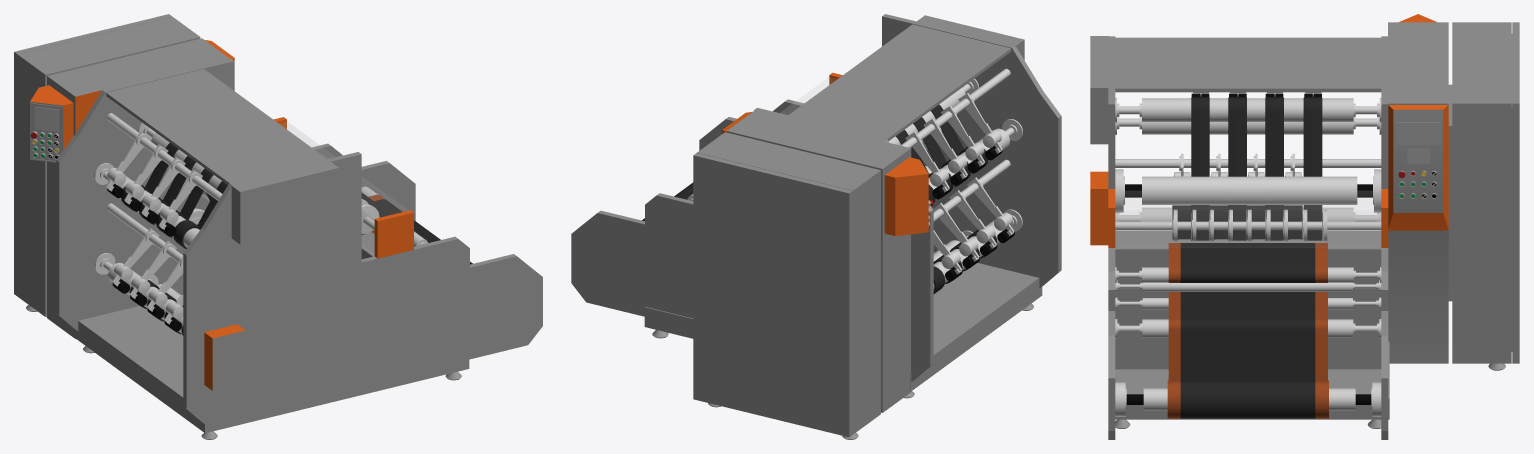
File: 슬리팅공정머신찐찐최종.fbx
3 views of the same model, side by side, from view 1: azimuth 30°, elevation 25°; view 2: azimuth 150°, elevation 25°; view 3: azimuth 270°, elevation 25° (orthographic). The views are drawn at different scales.
Parts seen in each view (by area): view 1: 본체, 코일, 고정발1, 고정발2, 롤러.013, 롤러.012, 롤러.011; view 2: 본체, 고정발1, 고정발2, 코일, 롤러.012, 롤러.011, 롤러.013; view 3: 본체, 코일, 롤러.008, 롤러.011, 컷팅기, 롤러.012, 롤러.001, 롤러.005, 롤러.002, 롤러.013, 롤러.003, 롤러.004 (+2 smaller).
Boxes of the visible parts, box(x1,y1,x2,y2) form: 본체: box(14, 14, 542, 439); 코일: box(121, 143, 472, 335); 고정발1: box(106, 131, 202, 236); 고정발2: box(112, 228, 183, 331); 롤러.013: box(94, 252, 183, 333); 롤러.012: box(94, 163, 199, 247); 롤러.011: box(138, 123, 221, 189); 본체: box(571, 14, 1061, 439); 고정발1: box(905, 93, 1002, 198); 고정발2: box(933, 177, 1014, 281); 코일: box(642, 104, 997, 293); 롤러.012: box(928, 119, 1022, 199); 롤러.011: box(888, 78, 979, 145); 롤러.013: box(933, 209, 1022, 289); 본체: box(1090, 14, 1519, 439); 코일: box(1167, 97, 1328, 418); 롤러.008: box(1115, 169, 1381, 212); 롤러.011: box(1115, 98, 1381, 122); 컷팅기: box(1115, 209, 1381, 241); 롤러.012: box(1115, 117, 1381, 134); 롤러.001: box(1115, 382, 1381, 416); 롤러.005: box(1115, 280, 1381, 292); 롤러.002: box(1115, 319, 1381, 338); 롤러.013: box(1115, 207, 1381, 221); 롤러.003: box(1115, 267, 1381, 283); 롤러.004: box(1115, 297, 1381, 309).
Size of the model in its own units: 846 by 549 by 791.
